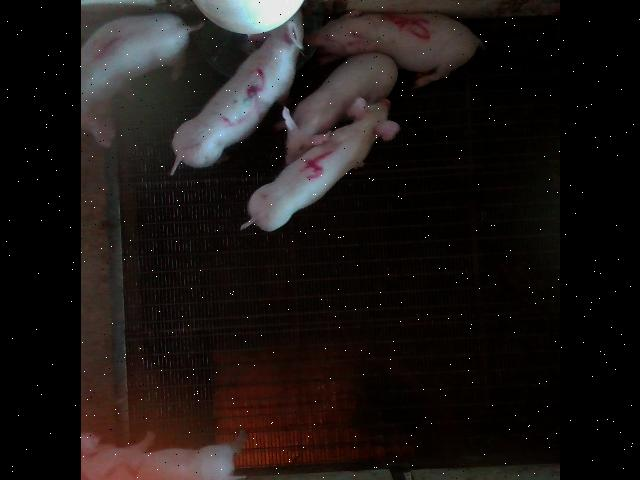pig-1: (81, 12, 201, 104)
pig-2: (81, 432, 245, 480)
pig-3: (171, 12, 301, 174)
pig-4: (241, 100, 399, 231)
pig-5: (304, 11, 484, 89)
